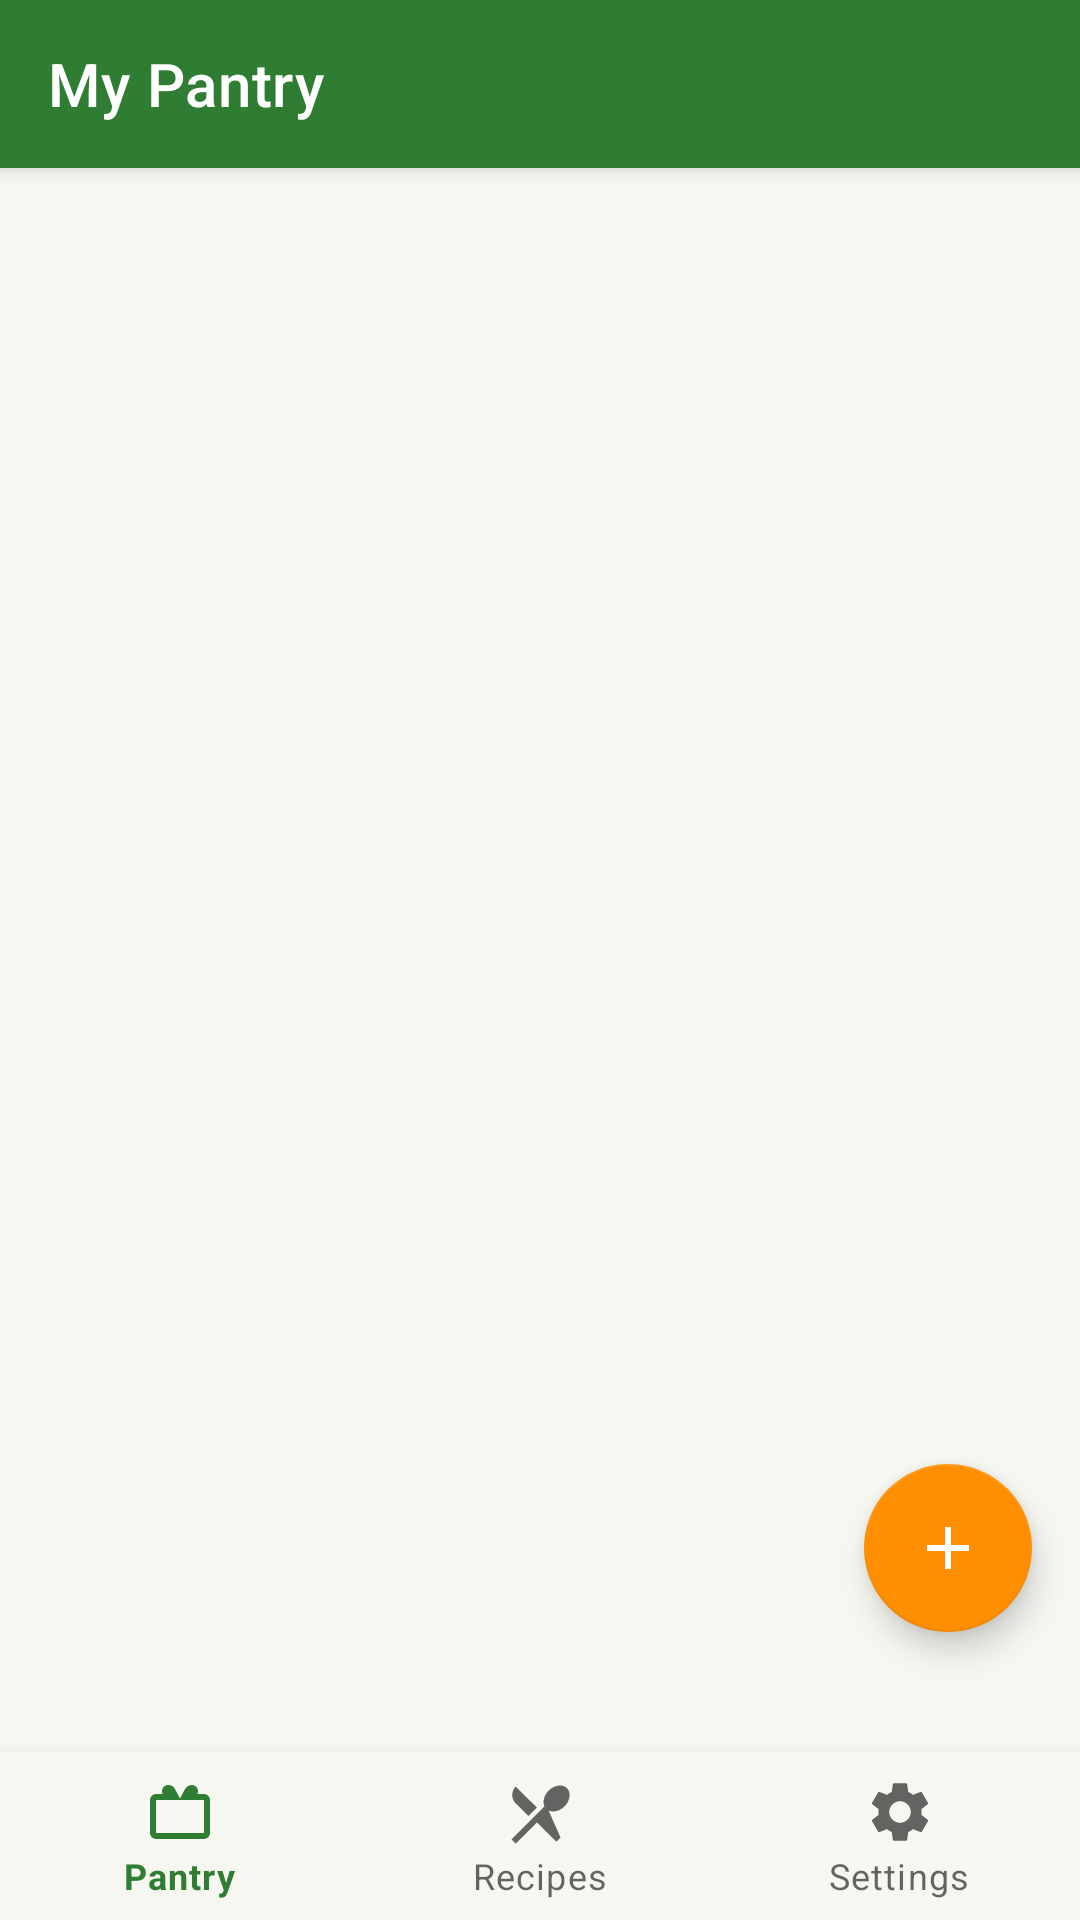

Icons on this 1080 x 1920 Android screen, each with the point to tap as [x,y]:
Add Ingredient: [948,1548]
